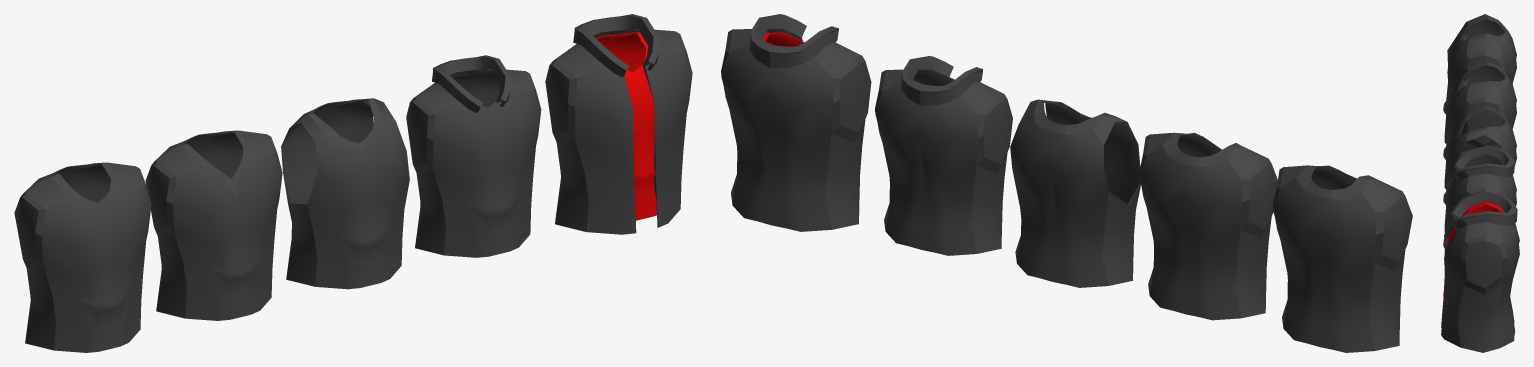
Rendered from VC_Avatar_MaleShirts_Set_01.fbx.
The picture shows the model from 3 angles, left to right: view 1: azimuth 30°, elevation 25°; view 2: azimuth 150°, elevation 25°; view 3: azimuth 270°, elevation 25°; orthographic projection. The views are drawn at different scales.
Visible parts, largest first — view 1: VC_Avater_Male_Shirt_04, VC_Avater_Male_Shirt_05, VC_Avater_Male_Shirt_01, VC_Avater_Male_Shirt_02, VC_Avater_Male_Shirt_03, VC_Avater_Male_Shirt_05_Inner; view 2: VC_Avater_Male_Shirt_05, VC_Avater_Male_Shirt_04, VC_Avater_Male_Shirt_01, VC_Avater_Male_Shirt_02, VC_Avater_Male_Shirt_03; view 3: VC_Avater_Male_Shirt_05, VC_Avater_Male_Shirt_02, VC_Avater_Male_Shirt_01, VC_Avater_Male_Shirt_04, VC_Avater_Male_Shirt_03, VC_Avater_Male_Shirt_05_Inner.
Boxes of the visible parts, x1=… form: VC_Avater_Male_Shirt_04: x1=406, y1=55, x2=541, y2=257; VC_Avater_Male_Shirt_05: x1=545, y1=14, x2=692, y2=234; VC_Avater_Male_Shirt_01: x1=14, y1=162, x2=151, y2=352; VC_Avater_Male_Shirt_02: x1=145, y1=130, x2=282, y2=320; VC_Avater_Male_Shirt_03: x1=281, y1=98, x2=409, y2=289; VC_Avater_Male_Shirt_05_Inner: x1=596, y1=32, x2=656, y2=220; VC_Avater_Male_Shirt_05: x1=721, y1=14, x2=871, y2=231; VC_Avater_Male_Shirt_04: x1=875, y1=56, x2=1012, y2=255; VC_Avater_Male_Shirt_01: x1=1273, y1=165, x2=1412, y2=352; VC_Avater_Male_Shirt_02: x1=1139, y1=132, x2=1277, y2=320; VC_Avater_Male_Shirt_03: x1=1010, y1=99, x2=1140, y2=287; VC_Avater_Male_Shirt_05: x1=1441, y1=191, x2=1519, y2=352; VC_Avater_Male_Shirt_02: x1=1443, y1=59, x2=1516, y2=189; VC_Avater_Male_Shirt_01: x1=1443, y1=14, x2=1516, y2=143; VC_Avater_Male_Shirt_04: x1=1443, y1=145, x2=1516, y2=271; VC_Avater_Male_Shirt_03: x1=1443, y1=106, x2=1516, y2=232; VC_Avater_Male_Shirt_05_Inner: x1=1443, y1=201, x2=1503, y2=296.
Bounding box in the file's own units: 123 × 32.45 × 17.92.
